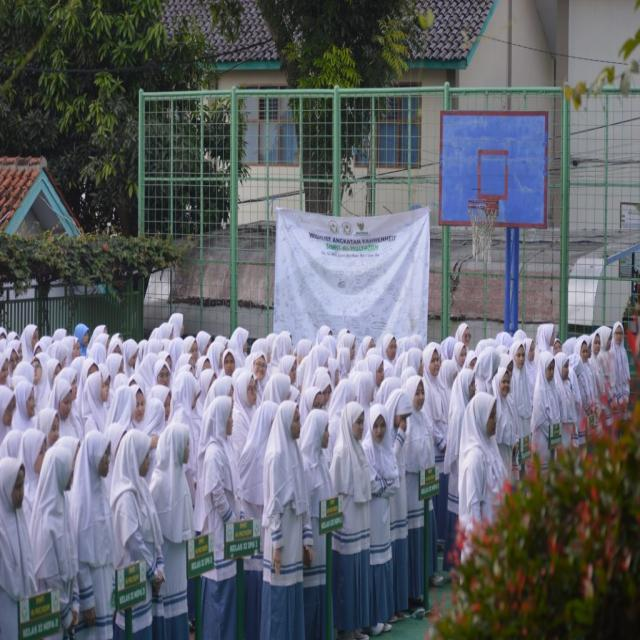peserta: (455, 390, 517, 598), (193, 391, 243, 640), (147, 418, 193, 640), (264, 394, 305, 640), (333, 397, 373, 640), (112, 429, 158, 640), (72, 430, 115, 640), (36, 442, 79, 640), (300, 403, 333, 640), (245, 388, 277, 626), (407, 355, 435, 621), (0, 454, 39, 640), (384, 380, 413, 620), (446, 367, 474, 598), (369, 394, 392, 640), (493, 361, 518, 539), (531, 335, 555, 496), (424, 346, 450, 470), (511, 335, 532, 473), (555, 339, 576, 472), (589, 322, 608, 442), (170, 368, 202, 438), (82, 374, 110, 448), (608, 320, 625, 440), (53, 370, 78, 450), (568, 338, 582, 467), (151, 362, 176, 434), (471, 344, 500, 406), (575, 326, 590, 444), (18, 425, 44, 490), (238, 374, 258, 457), (108, 385, 134, 442), (15, 380, 39, 440), (1, 355, 26, 406), (32, 354, 54, 411), (25, 322, 49, 372), (222, 340, 242, 398), (311, 368, 335, 416), (228, 324, 254, 368), (143, 397, 166, 445), (129, 376, 145, 441), (178, 335, 205, 372), (264, 368, 292, 403), (382, 333, 403, 376), (39, 407, 60, 448), (70, 320, 88, 364), (251, 348, 268, 394), (361, 331, 379, 372), (4, 384, 16, 442), (342, 333, 358, 368), (456, 318, 472, 348), (455, 340, 465, 375)
